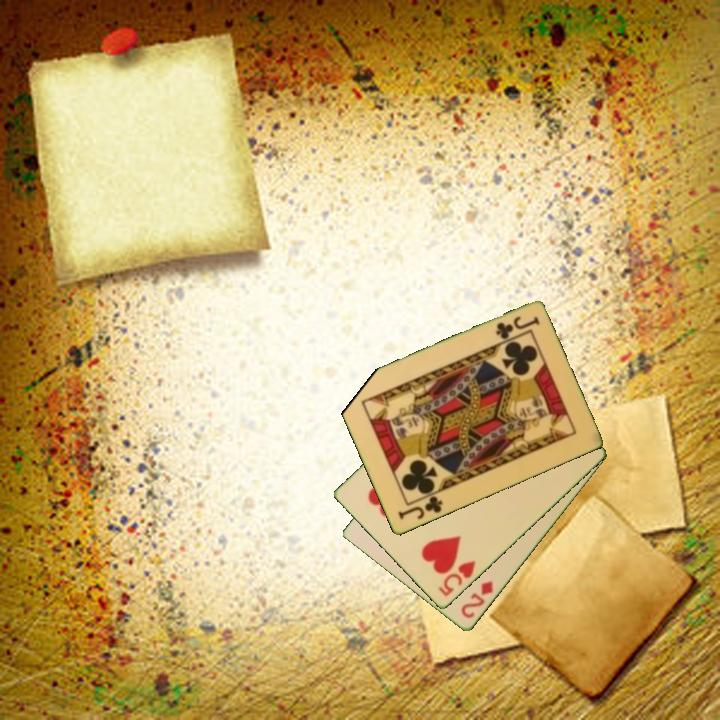2d: (457, 578, 496, 622)
5h: (434, 557, 479, 600)
Jc: (394, 492, 445, 523), (492, 313, 542, 342)
